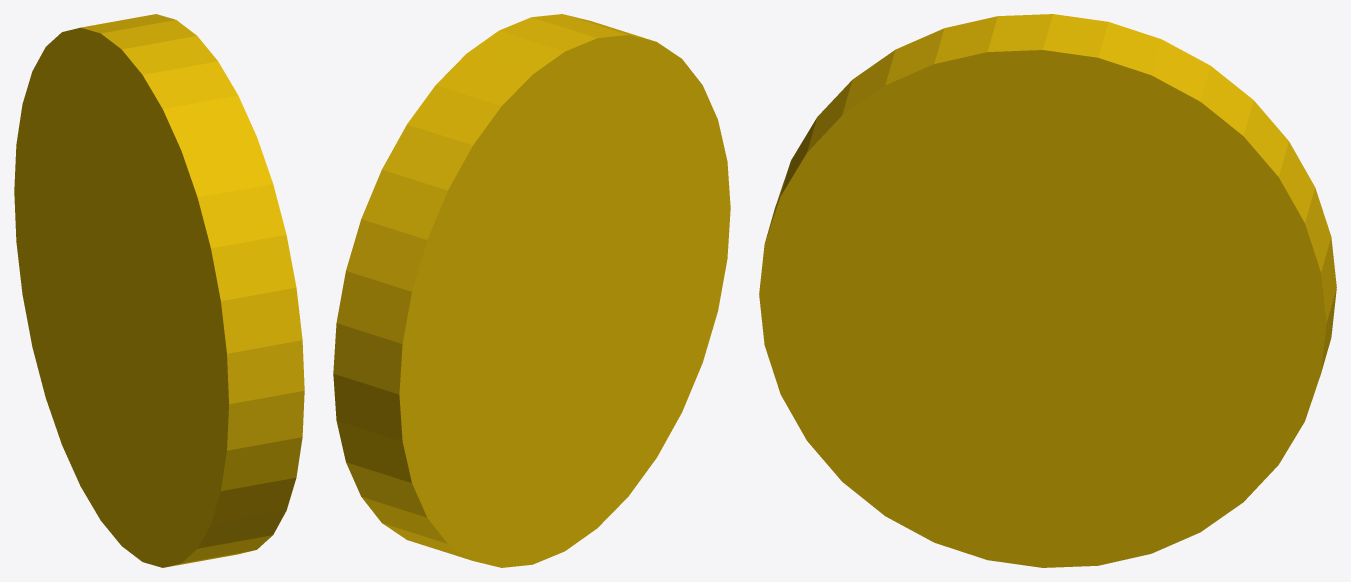
Rendered from coinmove.fbx.
3 renders of one model, left to right at view 1: azimuth 30°, elevation 25°; view 2: azimuth 150°, elevation 25°; view 3: azimuth 270°, elevation 25°, orthographic. The views are drawn at different scales.
Visible parts, largest first — view 1: coin:Mesh; view 2: coin:Mesh; view 3: coin:Mesh.
Boxes of the visible parts, x1,y1,x2,y2 form: coin:Mesh: (14,14,304,567); coin:Mesh: (333,14,730,567); coin:Mesh: (759,14,1336,567).
Size of the model in its own units: 0.5389 by 2 by 2.02.
